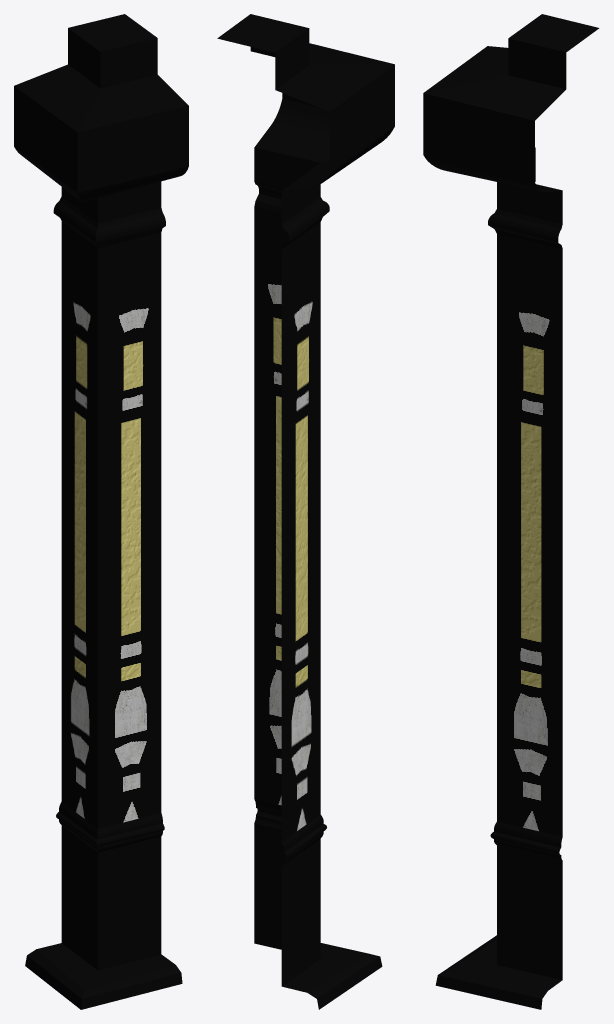
File: corner45.fbx
3 renders of one model, left to right at view 1: azimuth 30°, elevation 25°; view 2: azimuth 150°, elevation 25°; view 3: azimuth 330°, elevation 25°, orthographic. The views are drawn at different scales.
Visible parts, largest first — view 1: Corner90; view 2: Corner90; view 3: Corner90.
Part boxes in pixels (<box>): Corner90: <box>14,14,188,1009</box>; Corner90: <box>217,14,394,1009</box>; Corner90: <box>423,14,599,1009</box>.
Bounding box in the file's own units: 25 × 200 × 25.
